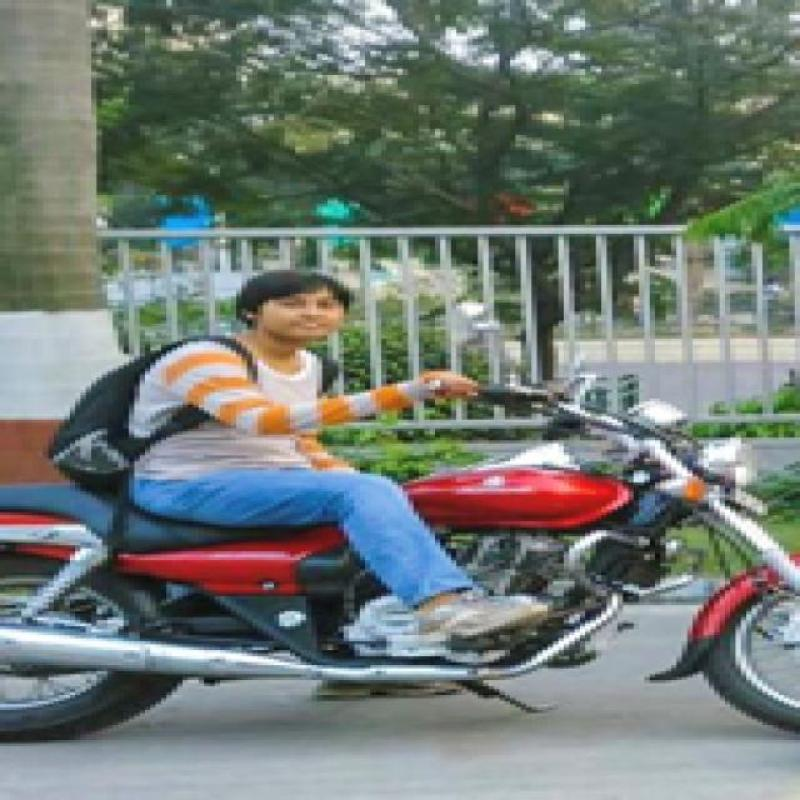nohelmet: (223, 270, 381, 364)
